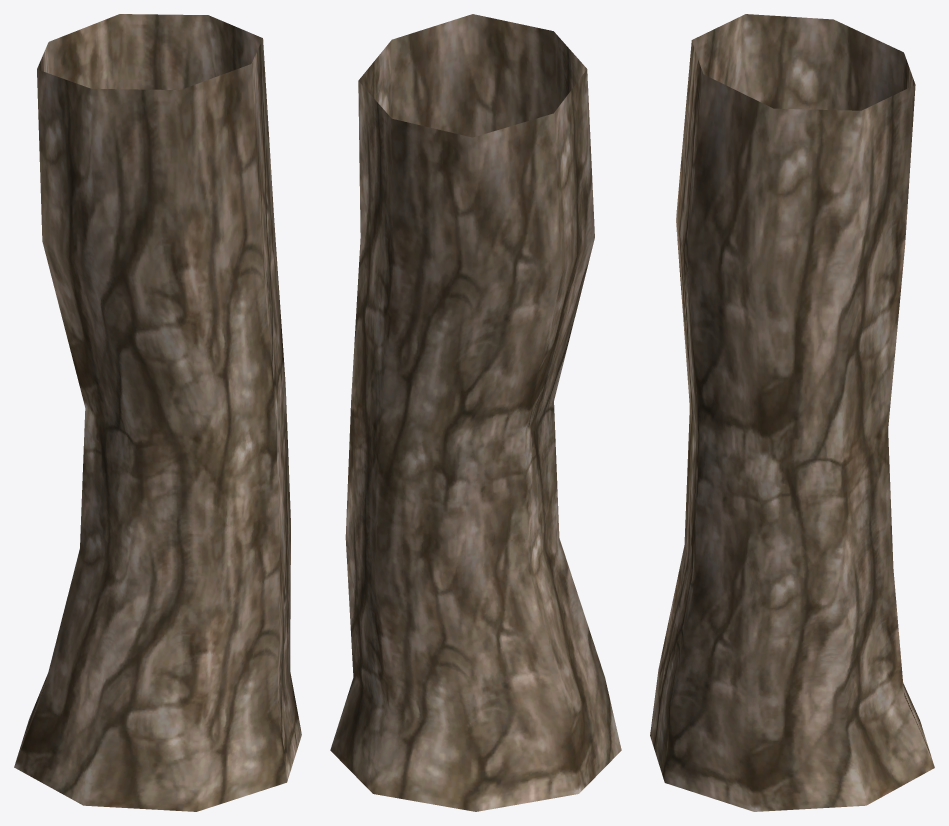
File: EKH_CAVERNS_PS_CA_CYLINDER07.fbx
The picture shows the model from 3 angles, left to right: view 1: azimuth 30°, elevation 25°; view 2: azimuth 150°, elevation 25°; view 3: azimuth 270°, elevation 25°; orthographic projection. The views are drawn at different scales.
Visible parts, largest first — view 1: EKH_CAVERNS_PS_CA_CYLINDER07; view 2: EKH_CAVERNS_PS_CA_CYLINDER07; view 3: EKH_CAVERNS_PS_CA_CYLINDER07.
Part boxes in pixels (box(x1,y1,x2,y2)): EKH_CAVERNS_PS_CA_CYLINDER07: box(14, 14, 301, 811); EKH_CAVERNS_PS_CA_CYLINDER07: box(330, 14, 621, 811); EKH_CAVERNS_PS_CA_CYLINDER07: box(650, 14, 934, 811).
Size of the model in its own units: 38222 by 103757 by 38222.
Materials: 1 (1 with a texture image).
